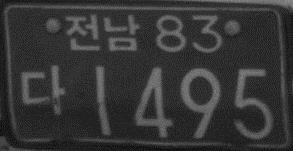1: (92, 63, 114, 136)
3: (190, 13, 224, 54)
4: (132, 66, 175, 141)
5: (230, 65, 274, 140)
8: (154, 12, 185, 52)
9: (181, 66, 221, 139)
다: (19, 63, 66, 119)
전남_O: (64, 12, 139, 52)
